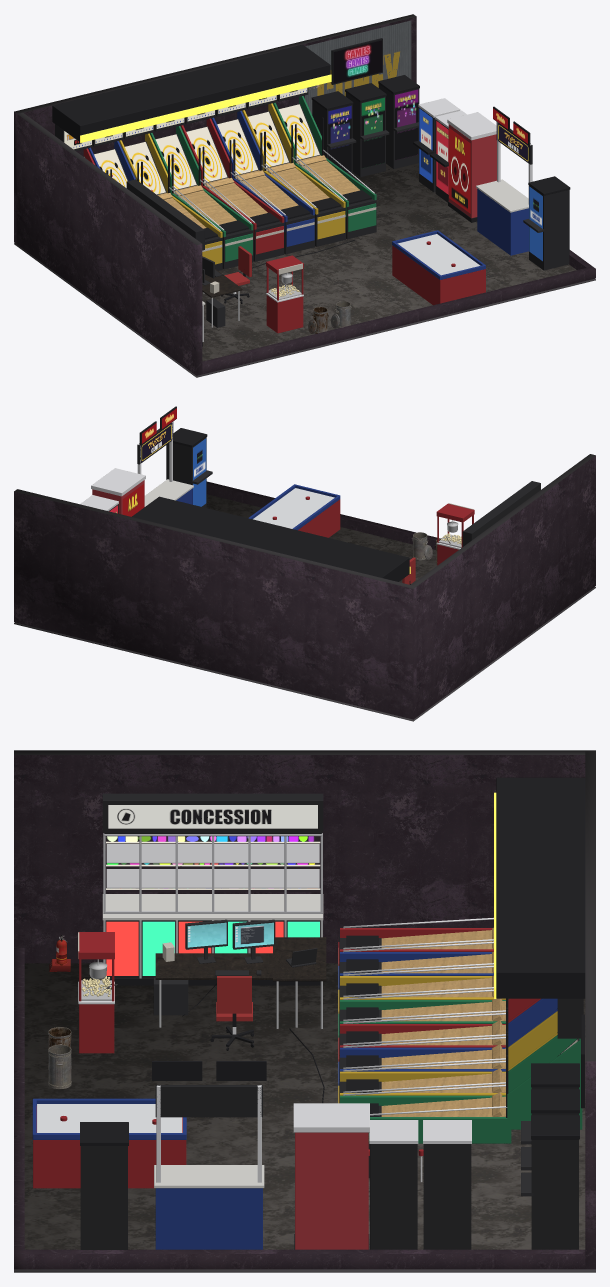
The model's file is room.glb.
3 renders of one model, top to bottom at view 1: azimuth 30°, elevation 25°; view 2: azimuth 150°, elevation 25°; view 3: azimuth 270°, elevation 25°, orthographic. The views are drawn at different scales.
Visible parts, largest first — view 1: left_wall_ext, floor_room, furn_mr_black, furn_mr_satin_black, furn_mr_target, furn_mr_paint_red, furn_mr_lane_wood, kerb_front_ext, furn_mr_paint_blue, coney_wall, furn_mr_chrome, back_wall (+23 smaller); view 2: back_wall_ext, left_wall_ext, furn_mr_black, furn_mr_satin_black, floor_room, furn_mr_paint_red, hockey_top, furn_mr_chrome, subfloor_ext, kerb_front, furn_mr_paint_blue, change_face (+5 smaller); view 3: left_wall, floor_room, furn_mr_black, furn_mr_satin_black, furn_mr_lane_wood, furn_mr_chrome, kerb_right_ext, furn_mr_paint_blue, furn_mr_alu, furn_mr_paint_red, m00_body, furn_mr_counter_top (+22 smaller).
Boxes of the visible parts, box(x1,y1,x2,y2) form: left_wall_ext: box(17, 112, 202, 375); floor_room: box(202, 163, 576, 361); furn_mr_black: box(52, 38, 570, 346); furn_mr_satin_black: box(55, 84, 569, 270); furn_mr_target: box(94, 104, 319, 194); furn_mr_paint_red: box(201, 180, 485, 333); furn_mr_lane_wood: box(157, 155, 359, 228); kerb_front_ext: box(202, 266, 595, 374); furn_mr_paint_blue: box(232, 173, 528, 279); coney_wall: box(305, 20, 411, 114); furn_mr_chrome: box(169, 98, 532, 302); back_wall: box(23, 16, 416, 156); back_wall_ext: box(14, 489, 416, 719); left_wall_ext: box(411, 454, 595, 716); furn_mr_black: box(132, 406, 410, 584); furn_mr_satin_black: box(109, 422, 540, 546); floor_room: box(206, 494, 437, 584); furn_mr_paint_red: box(272, 496, 474, 565); hockey_top: box(253, 488, 334, 528); furn_mr_chrome: box(80, 422, 461, 549); subfloor_ext: box(14, 587, 595, 721); kerb_front: box(206, 485, 435, 549); furn_mr_paint_blue: box(176, 484, 340, 530); change_face: box(193, 438, 206, 506); left_wall: box(14, 755, 585, 963); floor_room: box(24, 963, 585, 1249); furn_mr_black: box(80, 777, 585, 1249); furn_mr_satin_black: box(80, 793, 583, 1249); furn_mr_lane_wood: box(381, 927, 505, 1116); furn_mr_chrome: box(78, 917, 507, 1182); kerb_right_ext: box(24, 1249, 585, 1269); furn_mr_paint_blue: box(32, 952, 505, 1249); furn_mr_alu: box(103, 833, 322, 913); furn_mr_paint_red: box(33, 928, 505, 1188); m00_body: box(295, 1132, 368, 1249); furn_mr_counter_top: box(102, 894, 323, 1188).
Bounding box in the file's own units: 9.6 × 3.05 × 7.6.
Materials: 55 (31 with a texture image).
